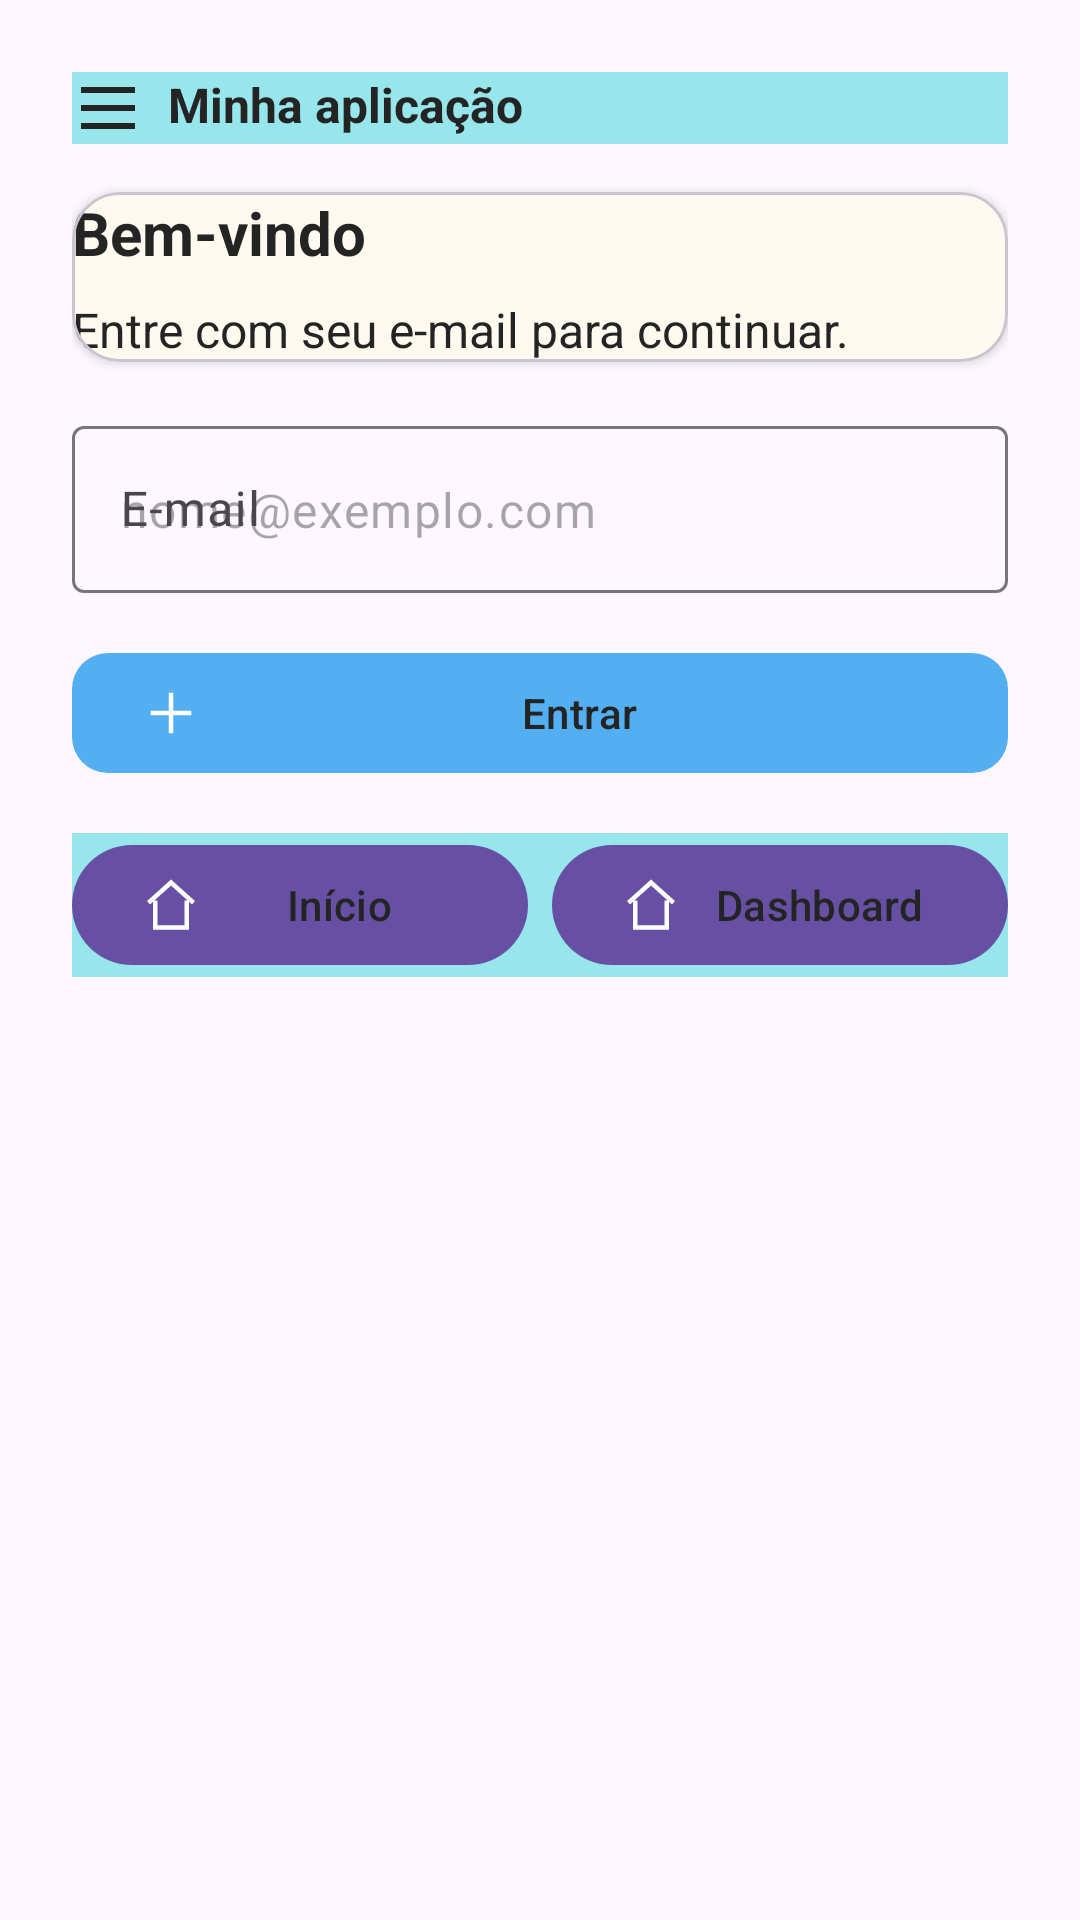

Named icons in this screenshot (1080x1920) and their centers, [x,y]:
Abrir menu: [108,108]
